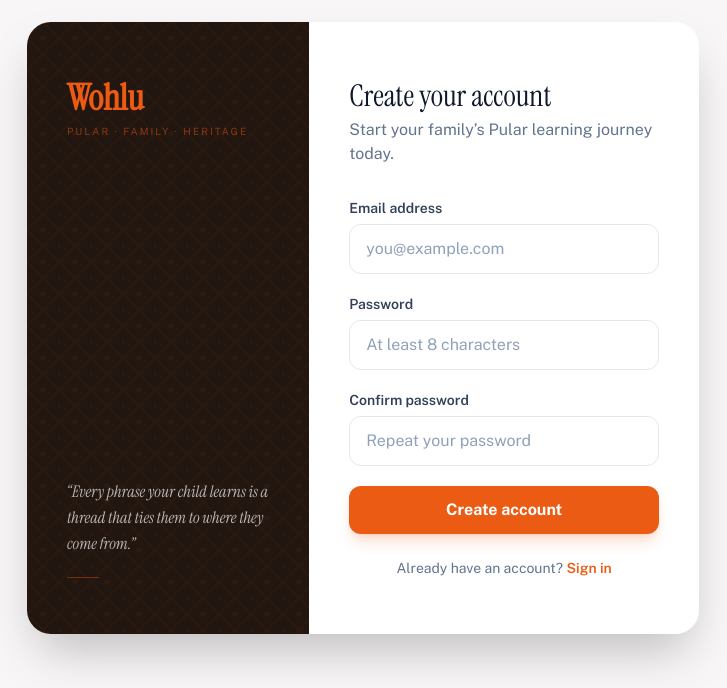
Test: SignupPage › shows error when password is too short
In the field labelled "Email address": x=504, y=249 [349,224,659,274], type "user@example.com"
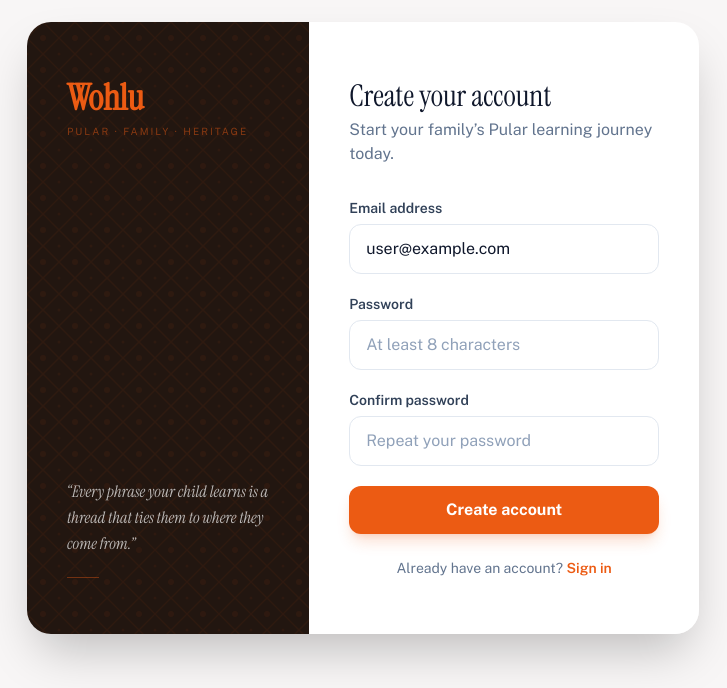
In the password field labelled "Password": x=504, y=345 [349,320,659,370], type "short1"
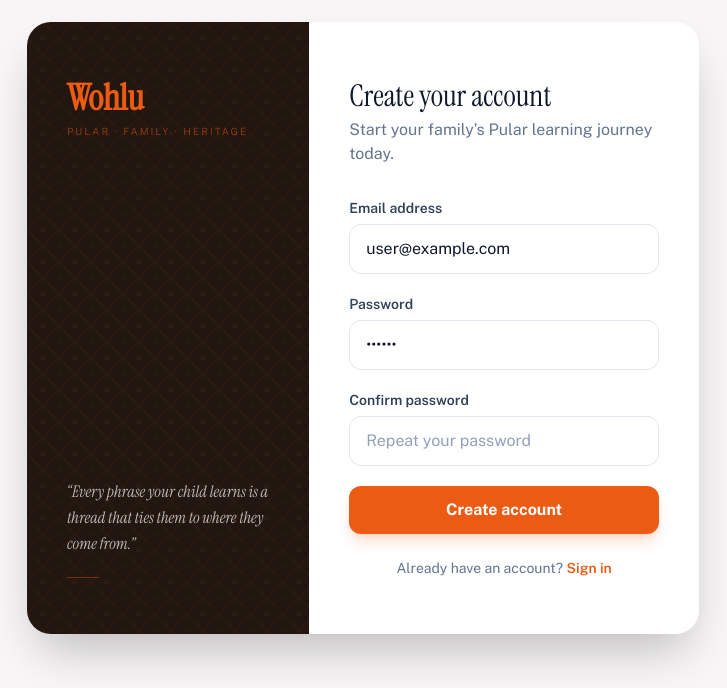
In the password field labelled "Confirm password": x=504, y=441 [349,416,659,466], type "short1"
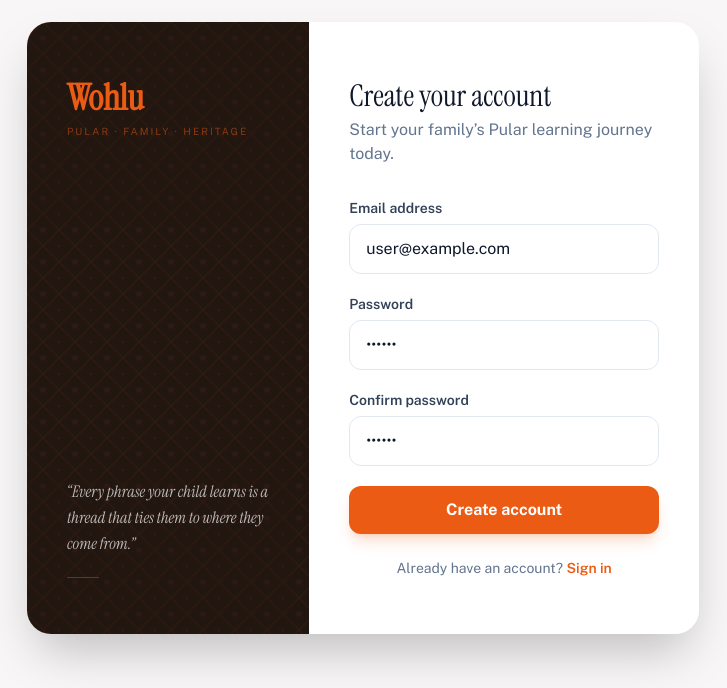
Click the button "Create account": x=504, y=510 [349,486,659,534]
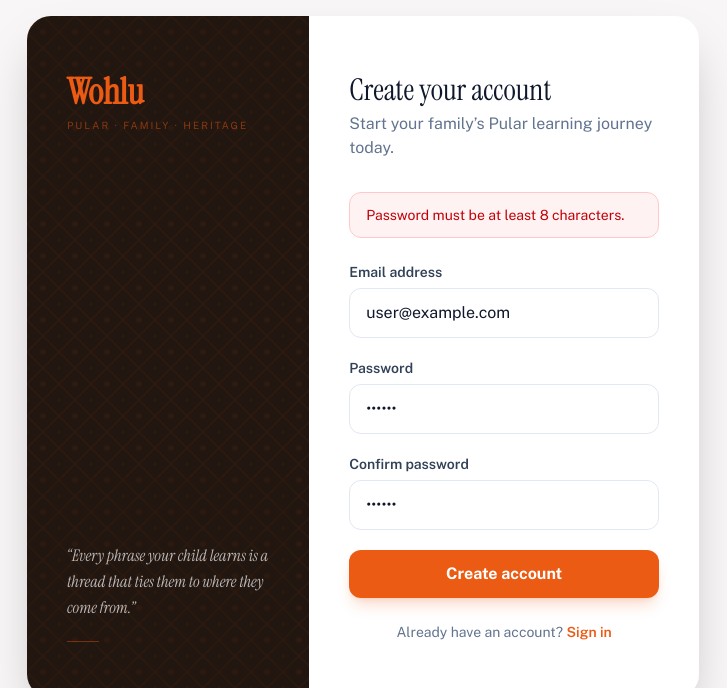
expect the text "Password must be at least 8 characters." is shown: met, box [349,192,659,238]
